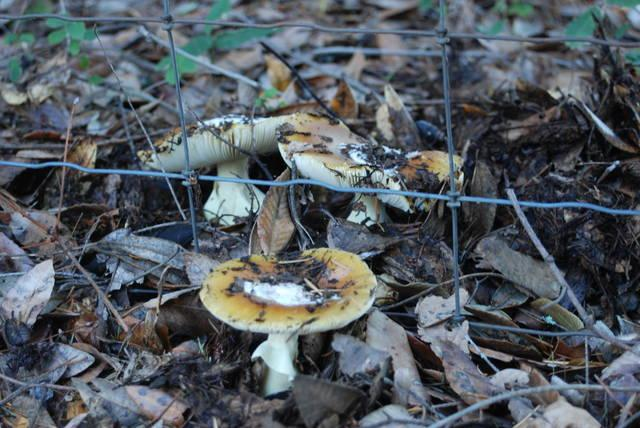edible_mushroom: (197, 246, 377, 397), (135, 113, 287, 228)
